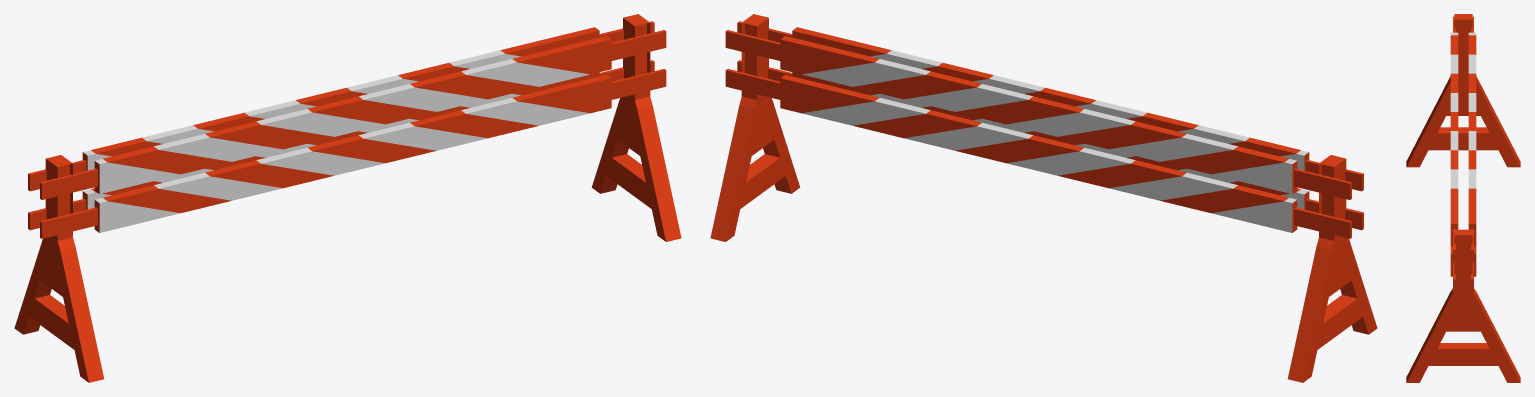
3 views of the same model, side by side, from view 1: azimuth 30°, elevation 25°; view 2: azimuth 150°, elevation 25°; view 3: azimuth 270°, elevation 25° (orthographic). The views are drawn at different scales.
Parts seen in each view (by area): view 1: 7; view 2: 7; view 3: 7.
Part boxes in pixels (<box>): 7: <box>14,14,681,382</box>; 7: <box>710,14,1377,382</box>; 7: <box>1406,14,1520,382</box>.
Bounding box in the file's own units: 732 × 216 × 151.
